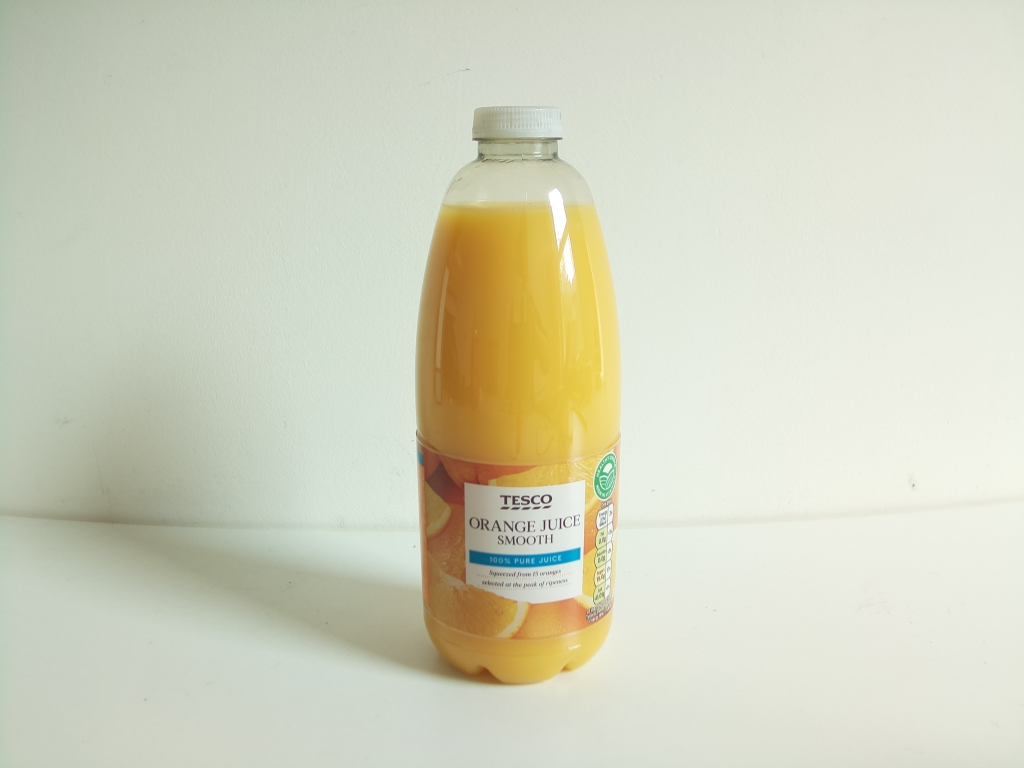juice: (410, 98, 636, 691)
